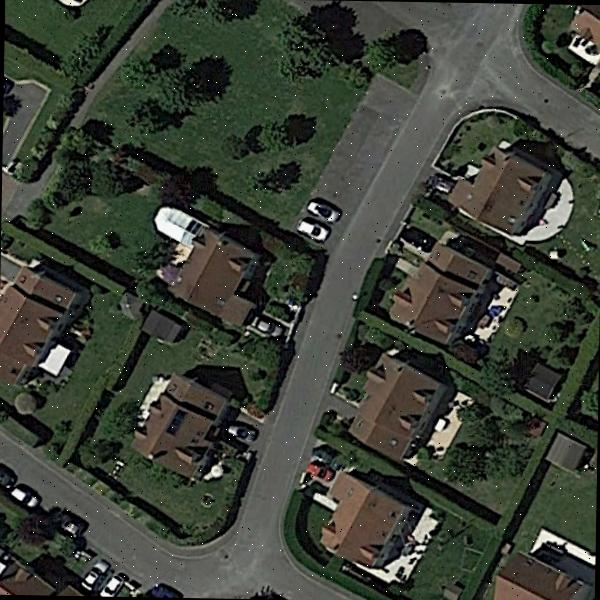Buildings: (167, 212, 260, 324), (0, 267, 73, 383), (363, 364, 439, 460), (150, 372, 220, 476), (400, 256, 478, 342), (328, 478, 400, 558), (464, 155, 544, 221), (497, 554, 584, 600), (0, 554, 82, 596), (546, 436, 586, 475), (569, 4, 600, 50)
